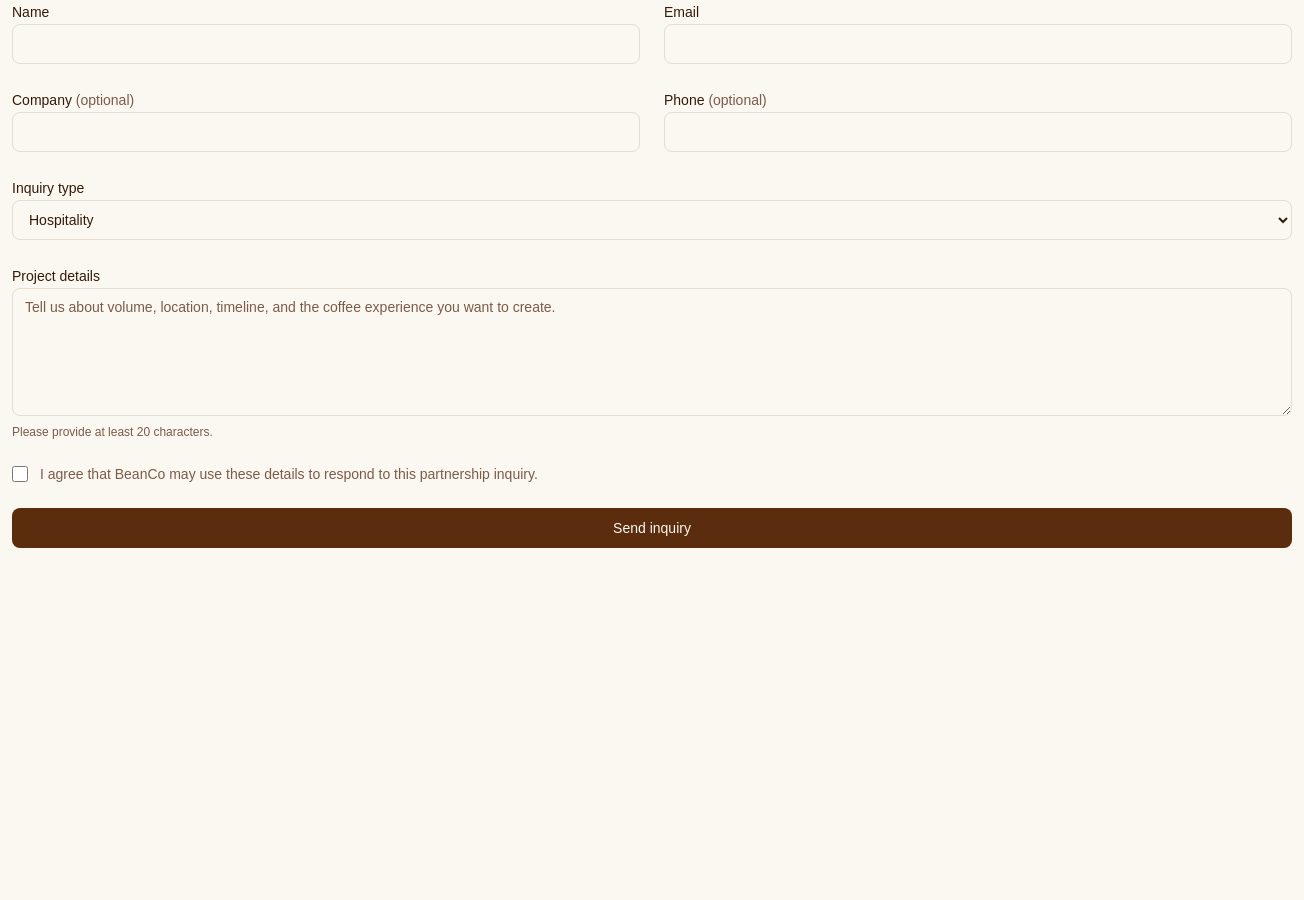
Test case: ContactForm › shows field and request errors returned by the API
Type "Arun Example" into the field labelled "Name" at [326, 44], box [12,24,640,64]
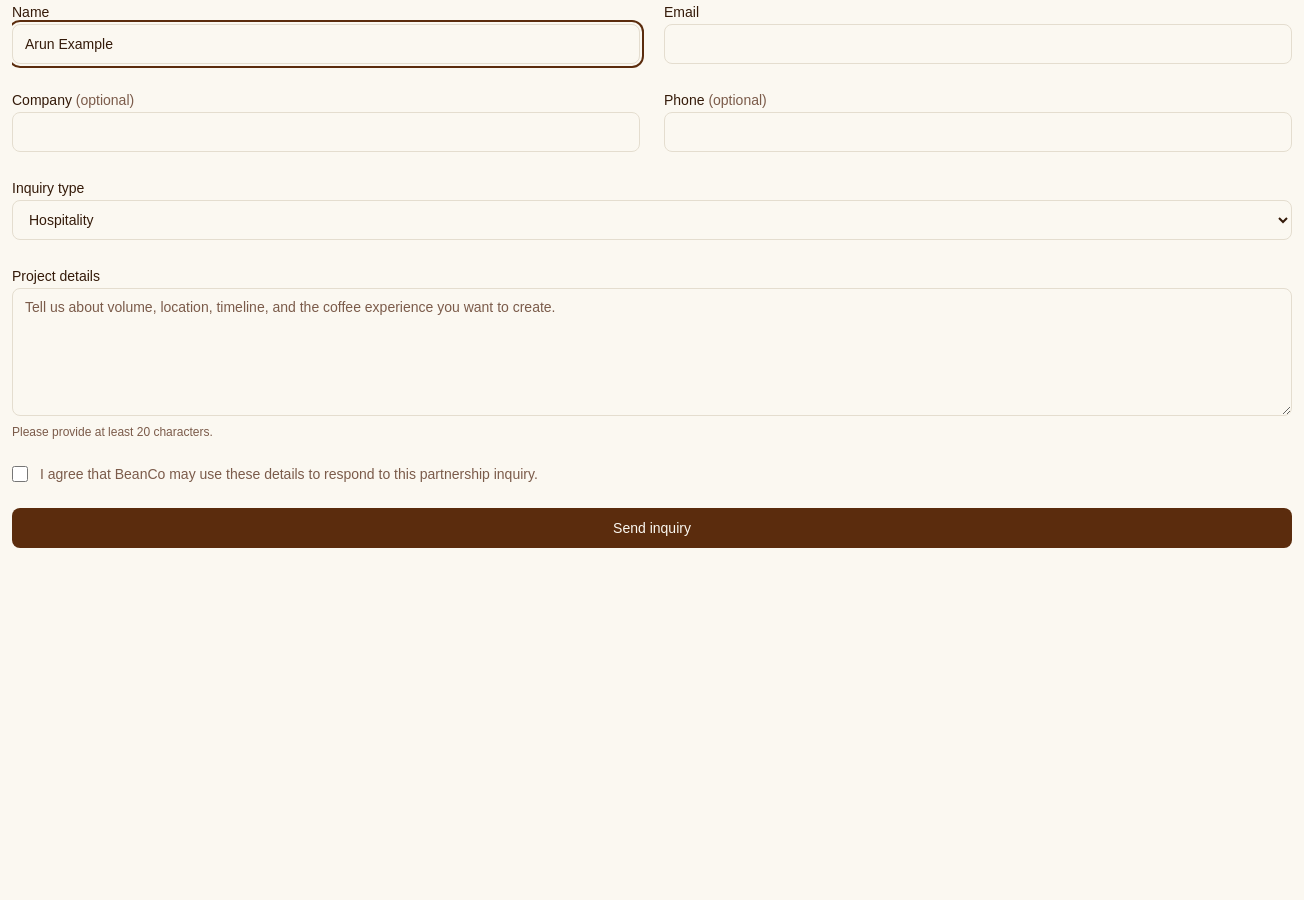
Type "arun@example.test" into the field labelled "Email" at [978, 44], box [664,24,1292,64]
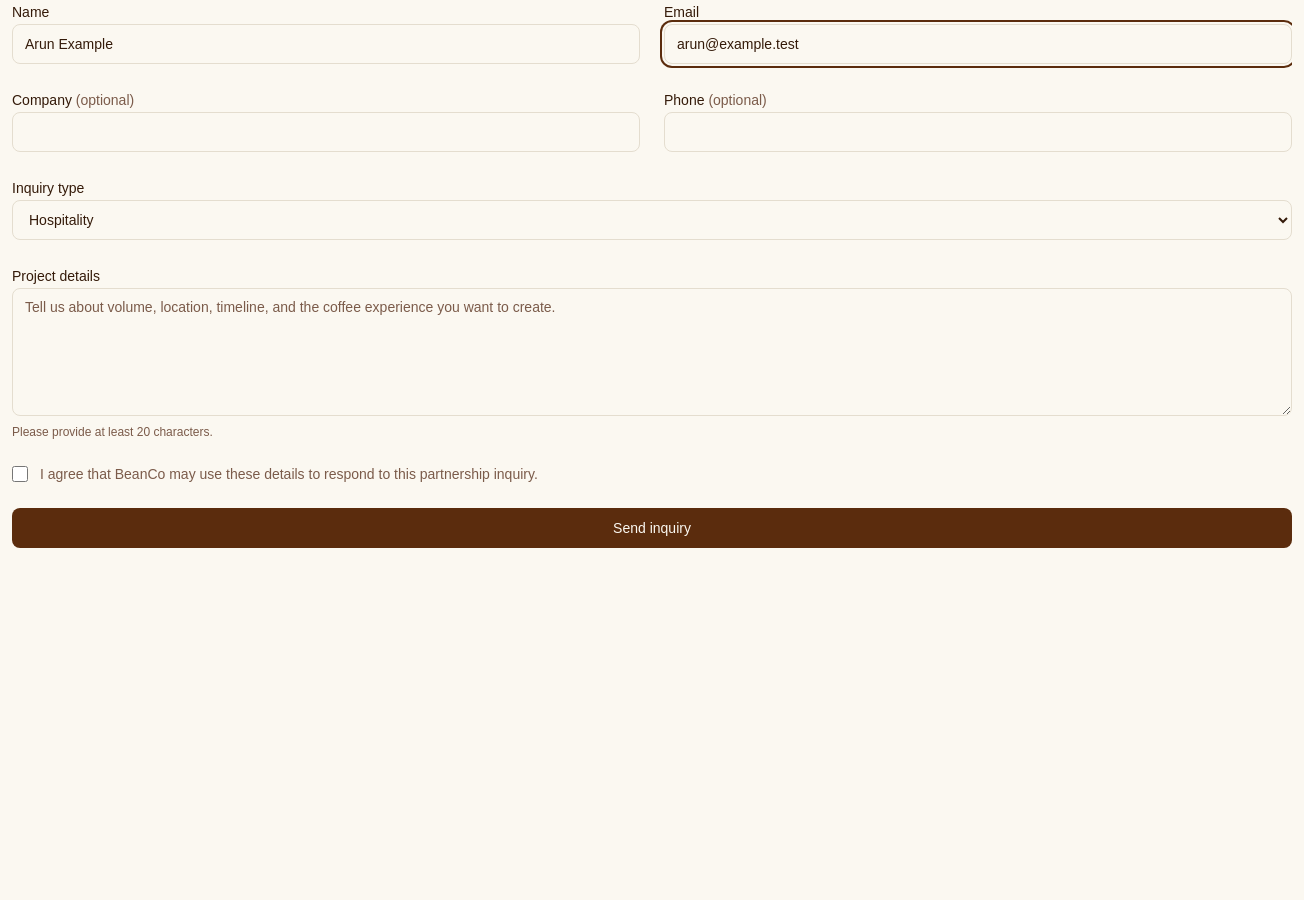
Type "Example Hotel" into the field labelled "Company (optional)" at [326, 132], box [12,112,640,152]
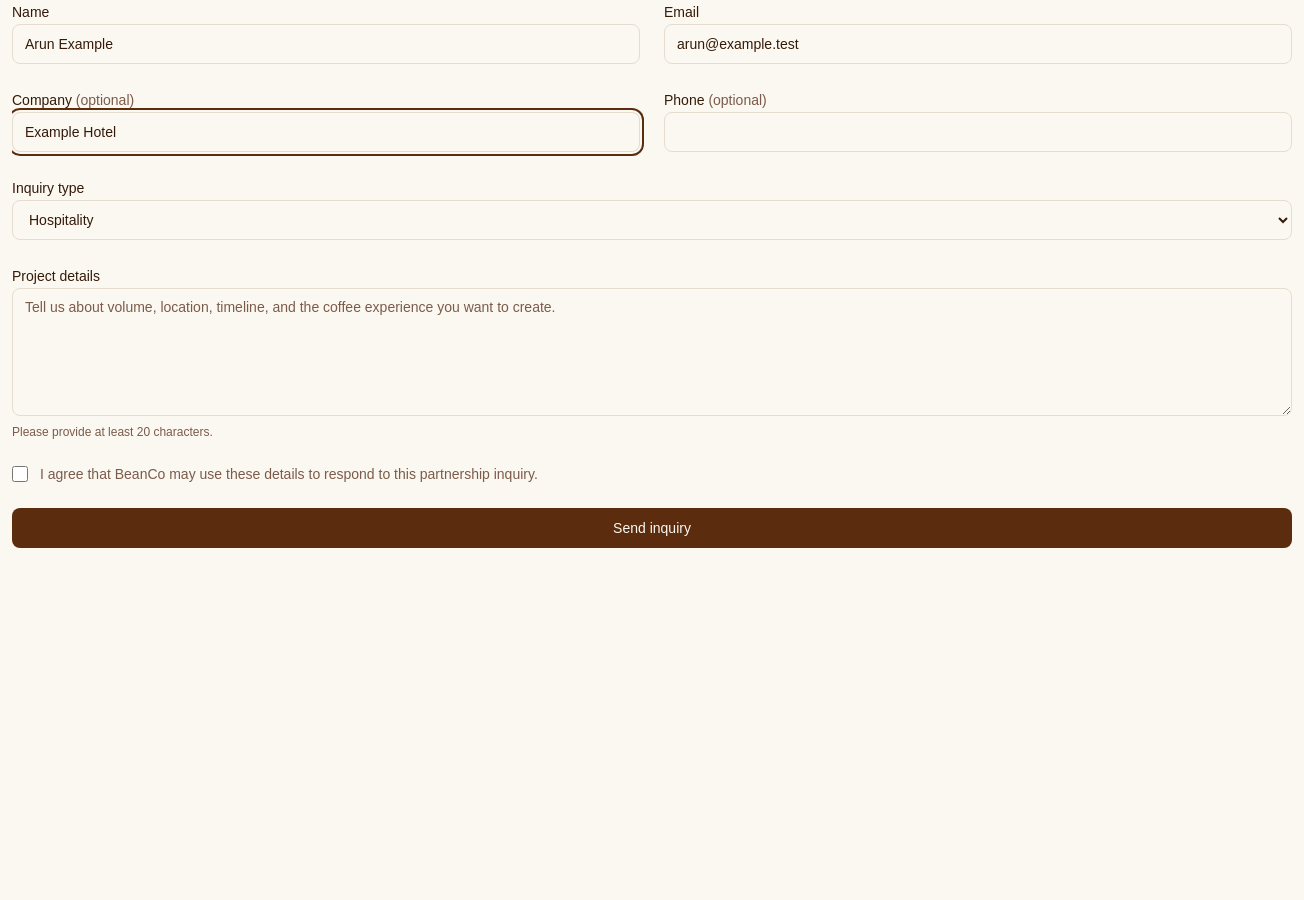
Type "Coffee service for a fictional hotel opening." into the text box labelled "Project details" at [652, 352], box [12,288,1292,416]
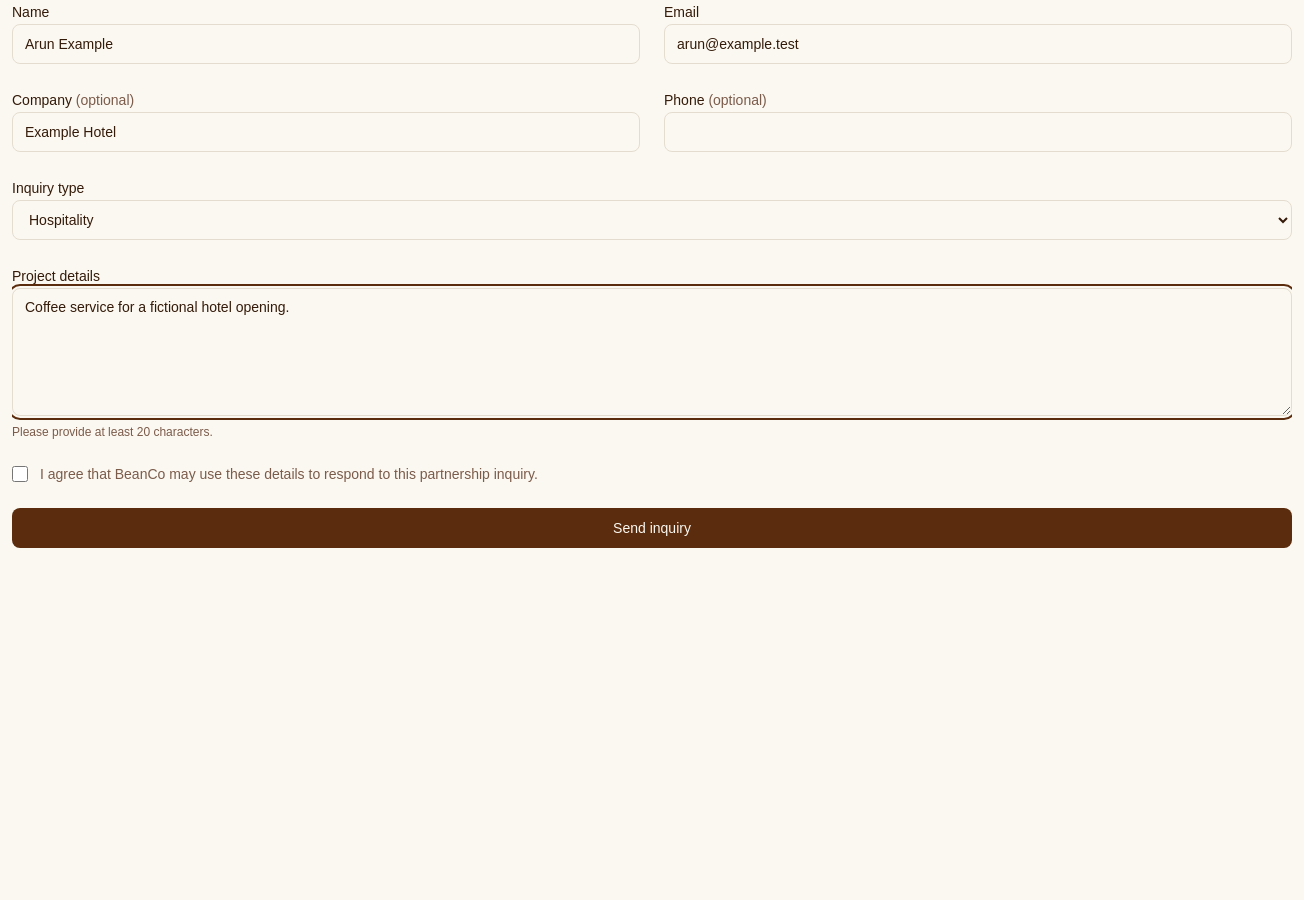
Click the checkbox labelled "I agree that BeanCo" at [20, 474], box [12,466,28,482]
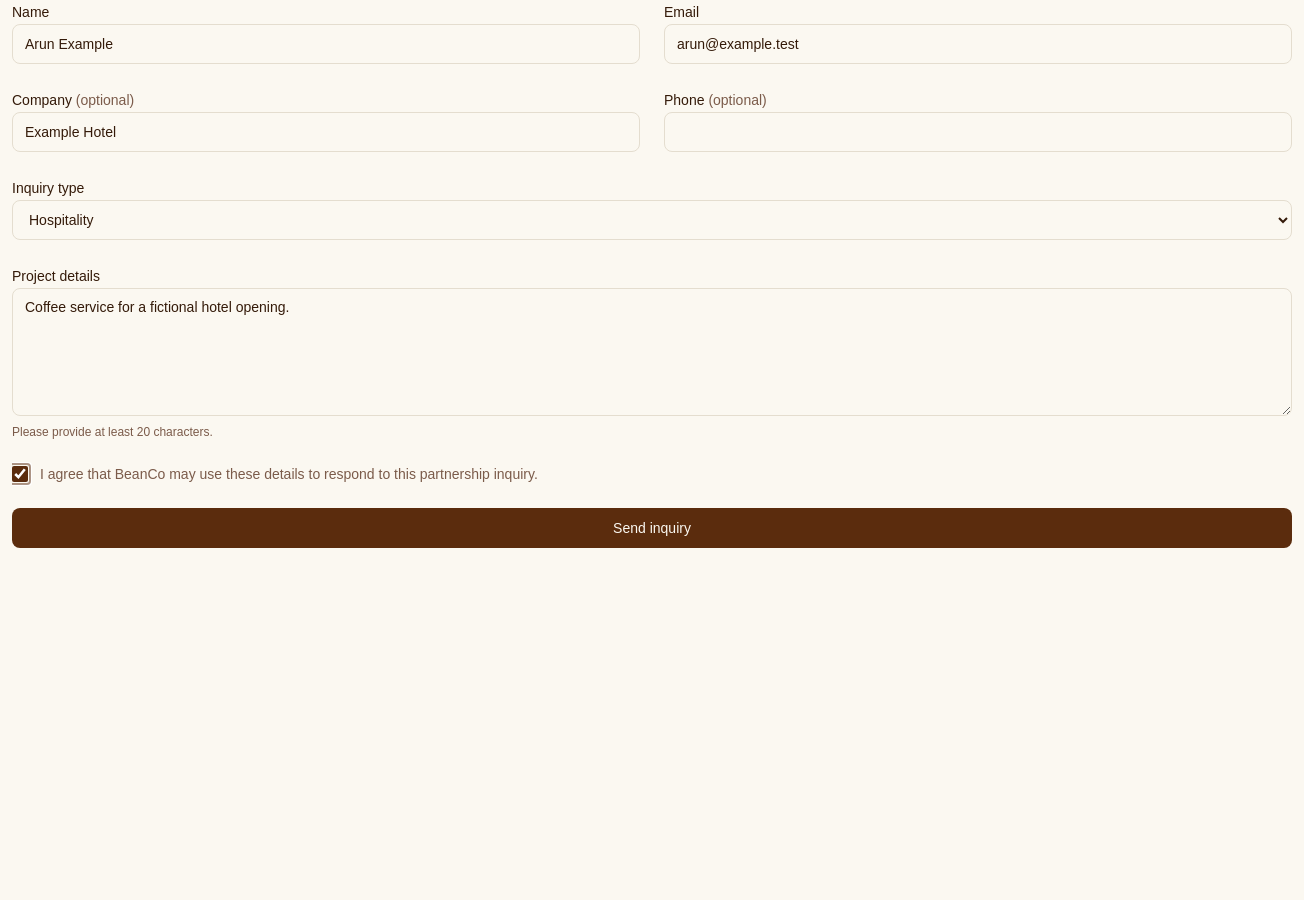
Click the button "Send inquiry" at [652, 528], box [12,508,1292,548]
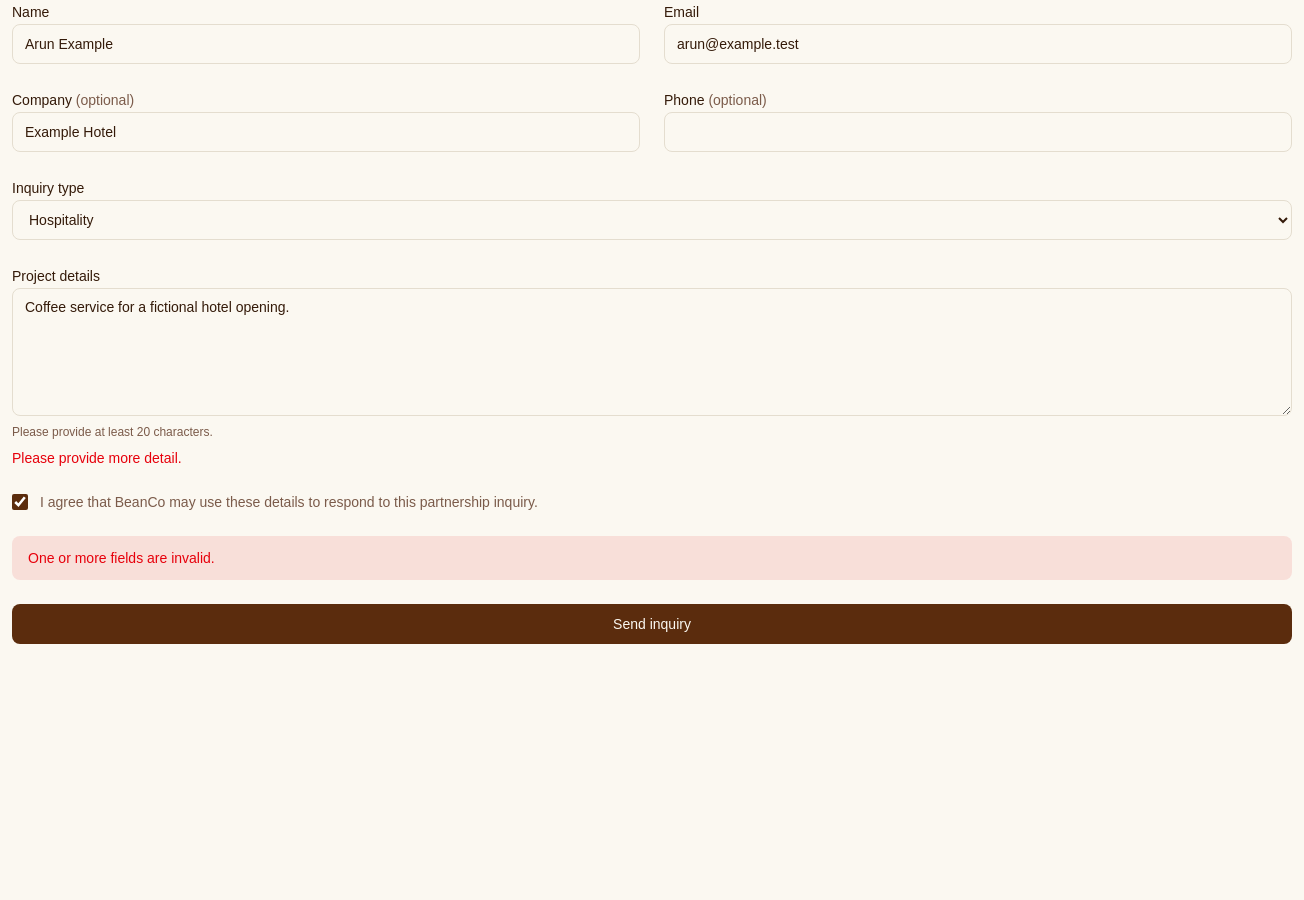
Now the message reads "One or more fields are invalid.", box [28,550,215,566]
Now the text "Please provide more detail." is shown, box [12,450,182,466]
